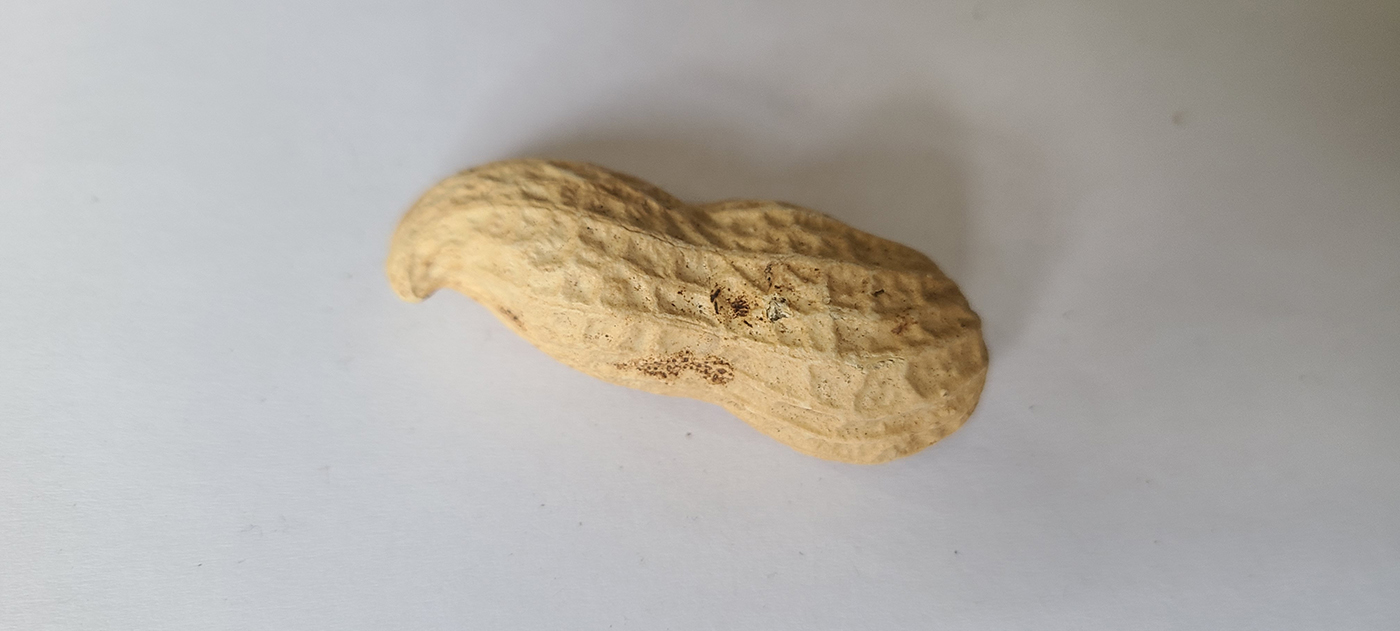h: (383, 148, 993, 461)
